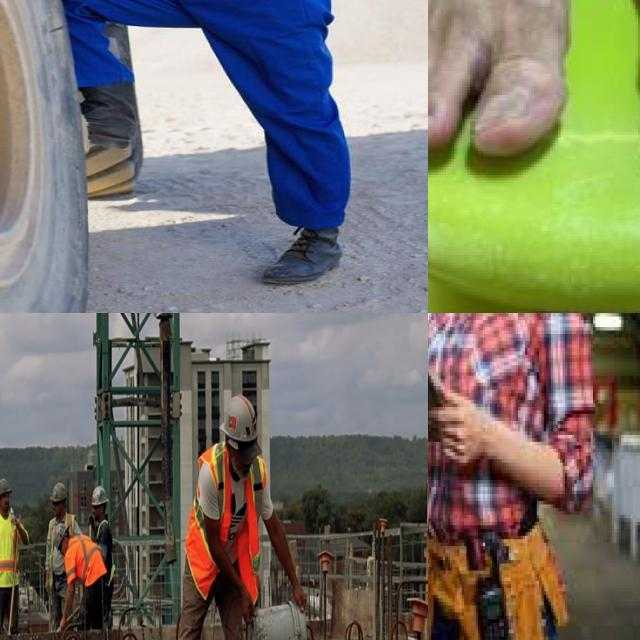Barefoots: (428, 0, 598, 183)
head_helmet: (222, 393, 255, 443), (54, 530, 71, 559), (50, 480, 69, 503), (90, 486, 108, 507), (0, 476, 13, 499)
person: (428, 313, 608, 640), (170, 395, 319, 640), (53, 523, 107, 640), (82, 480, 119, 632), (45, 477, 81, 633), (0, 475, 29, 639)
vest: (187, 441, 263, 620), (63, 515, 111, 586), (0, 510, 17, 589)
